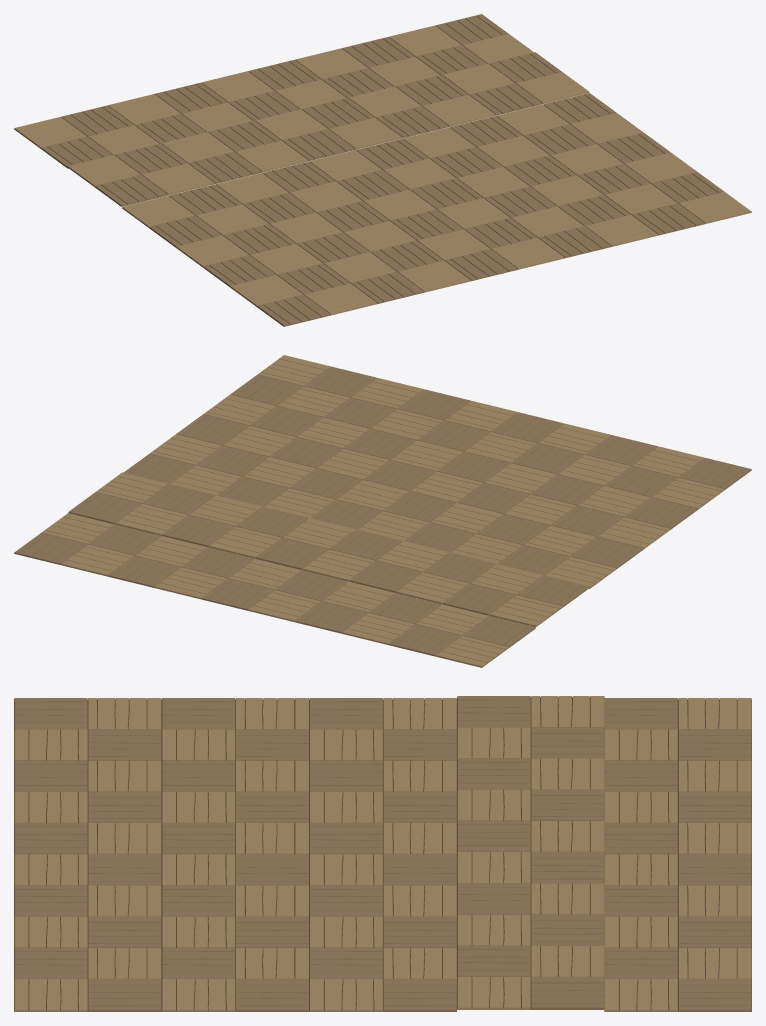
Rendered from floor_placeholder.fbx.
The picture shows the model from 3 angles, top to bottom: view 1: azimuth 30°, elevation 25°; view 2: azimuth 150°, elevation 25°; view 3: azimuth 270°, elevation 25°; orthographic projection. The views are drawn at different scales.
Parts seen in each view (by area): view 1: pPlane87; view 2: pPlane87; view 3: pPlane87.
Part boxes in pixels (x1,y1,x2,y2): pPlane87: (14, 14, 751, 326); pPlane87: (14, 355, 751, 667); pPlane87: (14, 696, 751, 1011).
Bounding box in the file's own units: 100 × 0.56 × 99.93.
